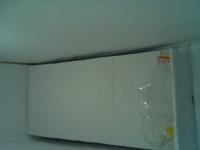bottle: (0, 47, 39, 150)
